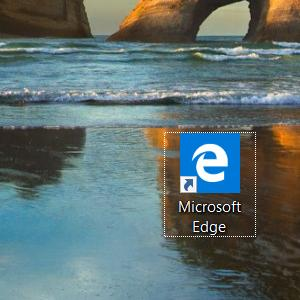edge: (180, 133, 240, 193)
